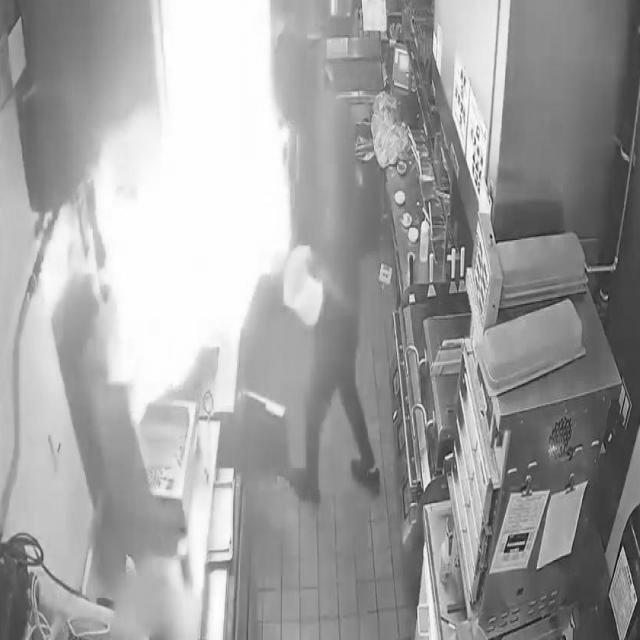smoke: (86, 0, 293, 435)
